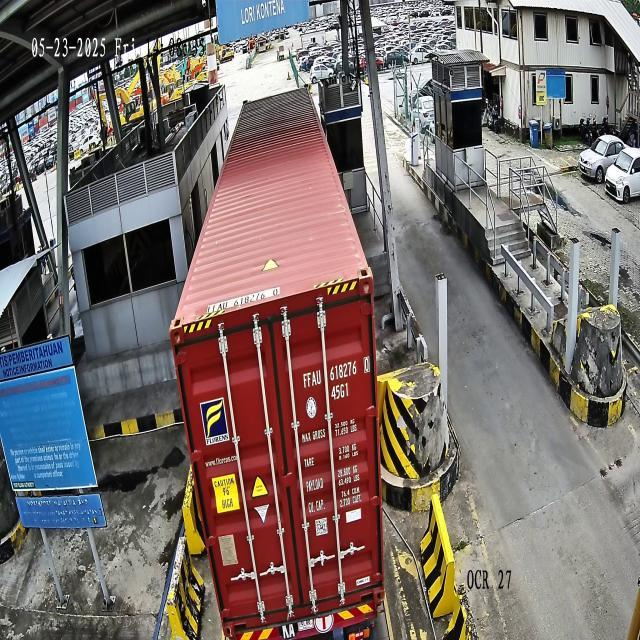ISO: (332, 380, 351, 402)
container_number: (304, 349, 372, 392)
